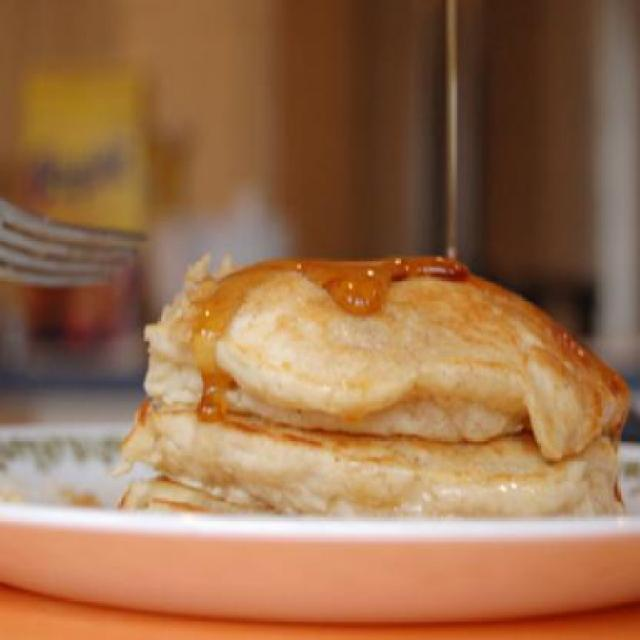Pancake: (110, 343, 630, 514), (145, 258, 622, 433)
